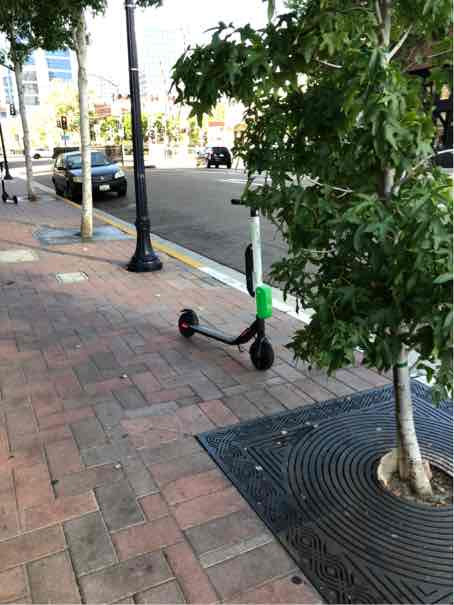scooter: (177, 187, 282, 370)
